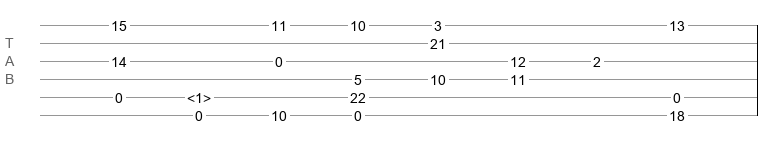0: (115, 90, 123, 100), (195, 108, 203, 118), (275, 54, 283, 64), (354, 108, 362, 118), (673, 90, 681, 100)
10: (271, 108, 287, 118), (350, 18, 366, 28), (430, 72, 446, 82)
11: (271, 18, 287, 28), (510, 72, 526, 82)
12: (510, 54, 526, 64)
13: (669, 18, 685, 28)
14: (111, 54, 127, 64)
15: (111, 18, 127, 28)
18: (669, 108, 685, 118)
2: (593, 54, 601, 64)
21: (430, 36, 446, 46)
22: (350, 90, 366, 100)
3: (434, 18, 442, 28)
5: (354, 72, 362, 82)
harmonic: (187, 90, 211, 100)
